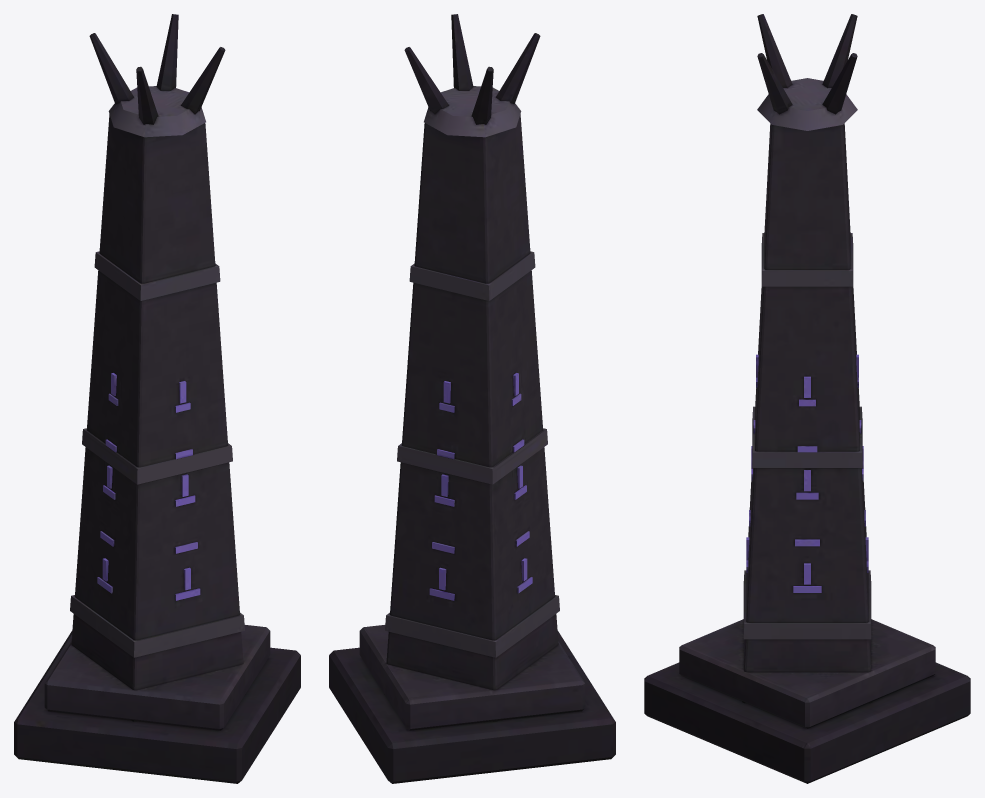
Rendered from kit_robelisk.glb.
The picture shows the model from 3 angles, left to right: view 1: azimuth 30°, elevation 25°; view 2: azimuth 150°, elevation 25°; view 3: azimuth 270°, elevation 25°; orthographic projection.
Parts seen in each view (by area): view 1: box; view 2: box; view 3: box.
Boxes of the visible parts, x1,y1,x2,y2 form: box: (14,14,300,783); box: (329,14,615,783); box: (644,14,970,783).
Size of the model in its own units: 5.83 by 13.45 by 5.83.
Materials: 1 (1 with a texture image).
